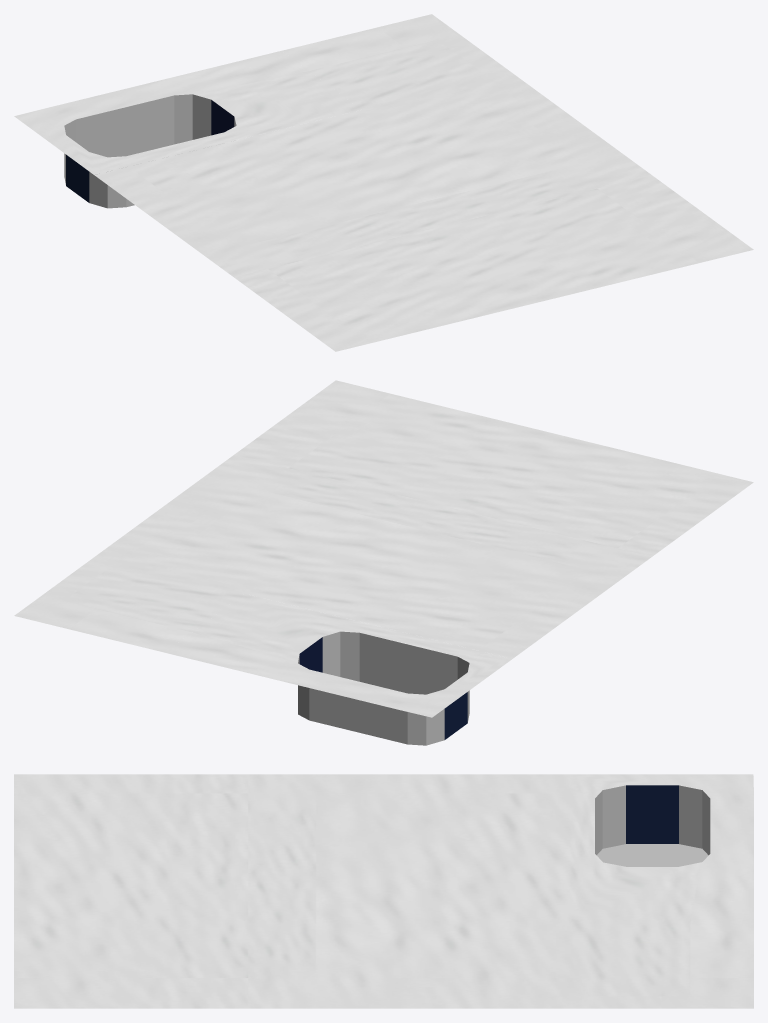
File: hole05.FBX
The picture shows the model from 3 angles, top to bottom: view 1: azimuth 30°, elevation 25°; view 2: azimuth 150°, elevation 25°; view 3: azimuth 270°, elevation 25°; orthographic projection. The views are drawn at different scales.
Visible parts, largest first — view 1: Object053; view 2: Object053; view 3: Object053.
Part boxes in pixels (x1,y1,x2,y2): Object053: (14,14,753,351); Object053: (14,380,753,745); Object053: (14,774,753,1008).
Bounding box in the file's own units: 600 × 70 × 800.
